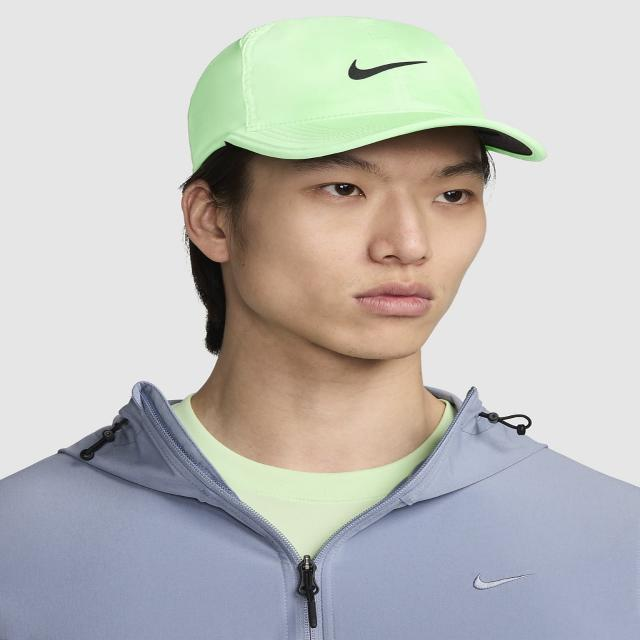no_helmet: (186, 15, 545, 174)
